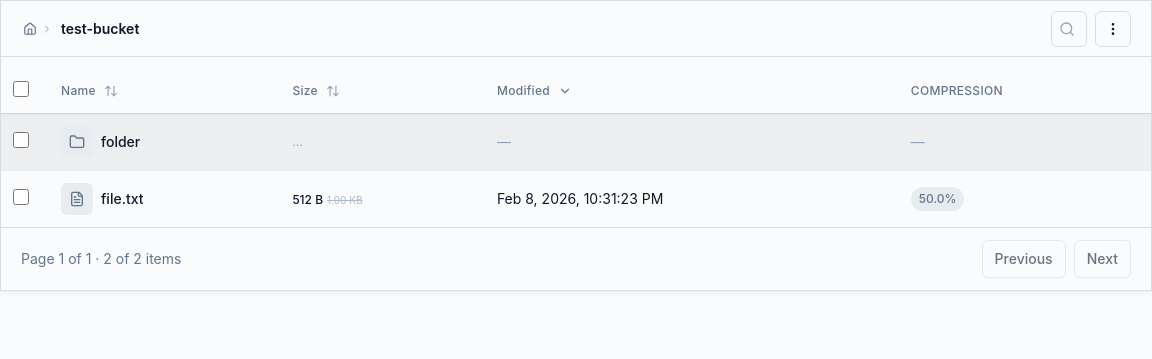
Test: ObjectsView › shows selection bar when items are selected
The width and height of the screenshot is (1152, 359).
Click the checkbox named "Select folder/file.txt" at [21, 196], box top-left (13, 188), bottom-right (29, 204)
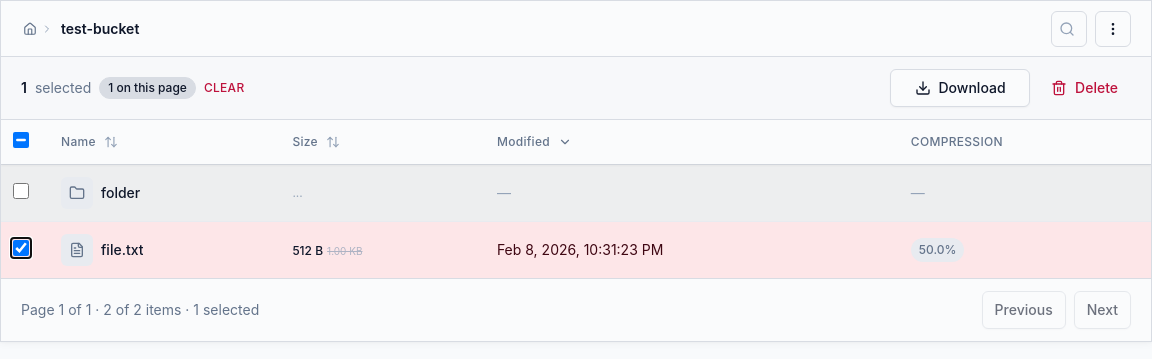
Now the text "selected" is shown, box top-left (35, 78), bottom-right (91, 98)
Now the text "1 on this page" is shown, box top-left (99, 77), bottom-right (196, 99)
